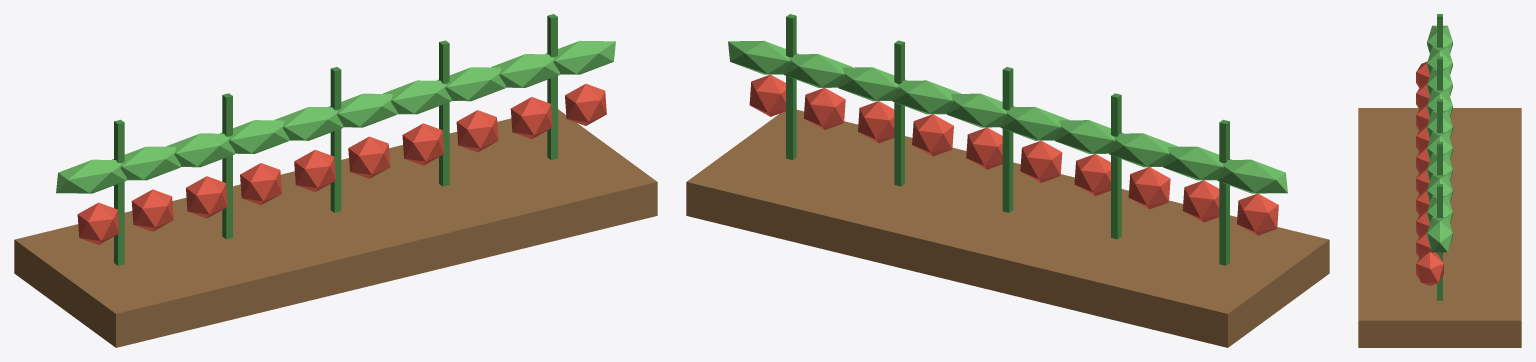
File: TR3_CropRow_Tomato.glb
3 renders of one model, left to right at view 1: azimuth 30°, elevation 25°; view 2: azimuth 150°, elevation 25°; view 3: azimuth 270°, elevation 25°, orthographic. The views are drawn at different scales.
Visible parts, largest first — view 1: TR3_CropRow_Tomato; view 2: TR3_CropRow_Tomato; view 3: TR3_CropRow_Tomato.
Boxes of the visible parts, x1,y1,x2,y2 form: TR3_CropRow_Tomato: (14, 14, 657, 347); TR3_CropRow_Tomato: (686, 14, 1329, 347); TR3_CropRow_Tomato: (1358, 14, 1521, 347).
Size of the model in its own units: 2.07 by 0.62 by 0.65.
